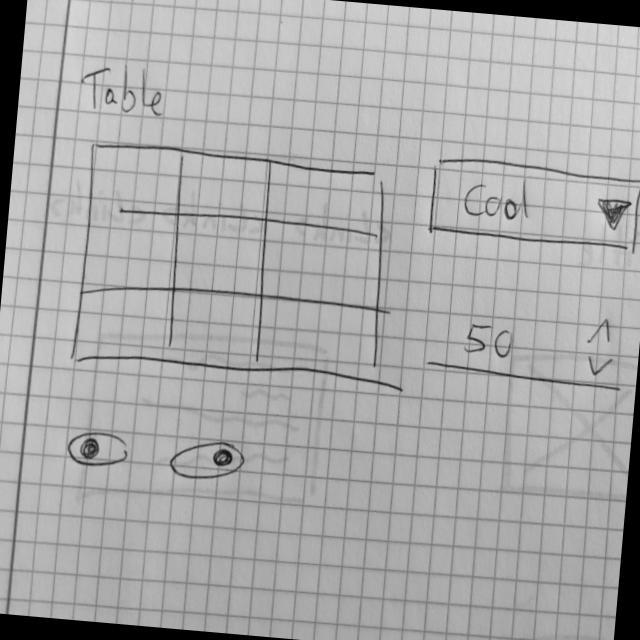label: (74, 58, 172, 124)
number-input: (424, 298, 628, 396)
select: (423, 152, 640, 257)
table: (70, 138, 400, 392)
toggle: (167, 435, 249, 488), (64, 426, 132, 468)
